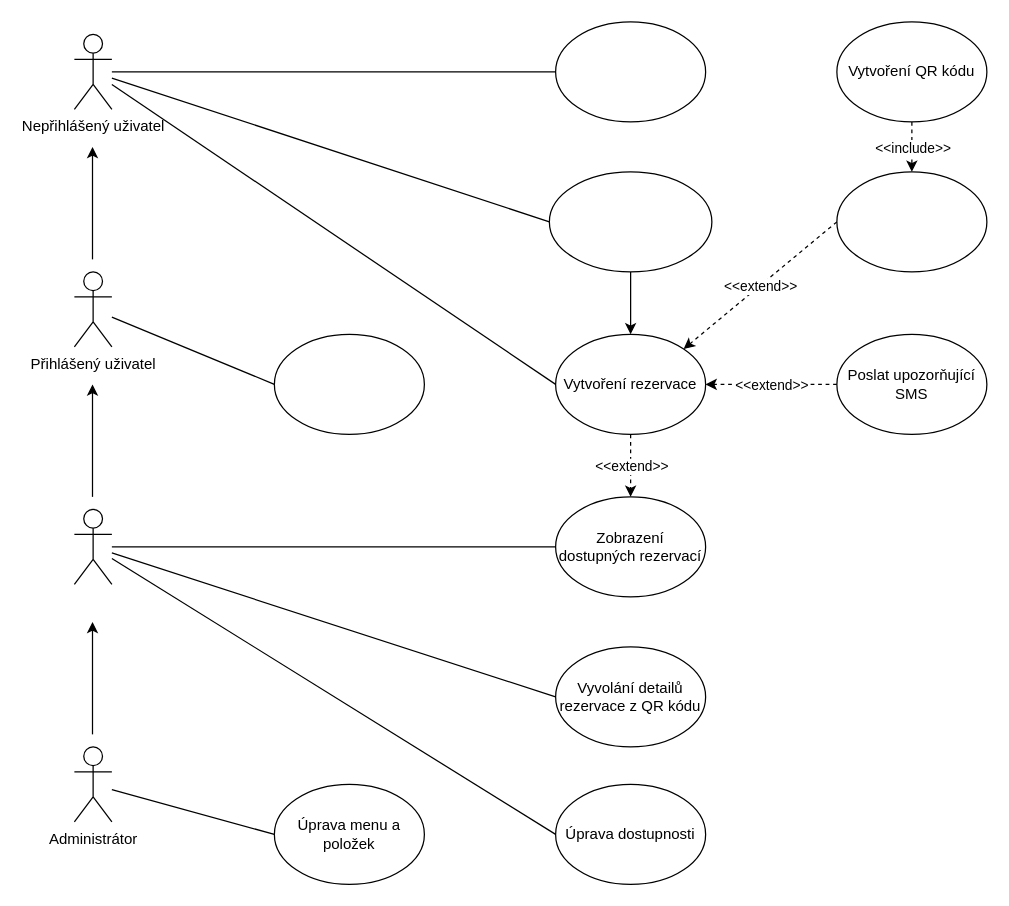
Some shapes in this 1009 by 906 pixel diagram are drawn without their labels. The box of each missing label's shape, as (x1, y1, x2, y2) in pixels:
Poslat potvrzovací SMS: (836, 171, 987, 272)
Vybrání datumu, počtu lidí, jídel a stolů: (548, 171, 712, 272)
Zaměstnanec: (73, 508, 112, 584)
Zobrazení dostupných jídel: (554, 21, 706, 122)
Zobrazení osobních rezervací: (273, 333, 424, 434)
